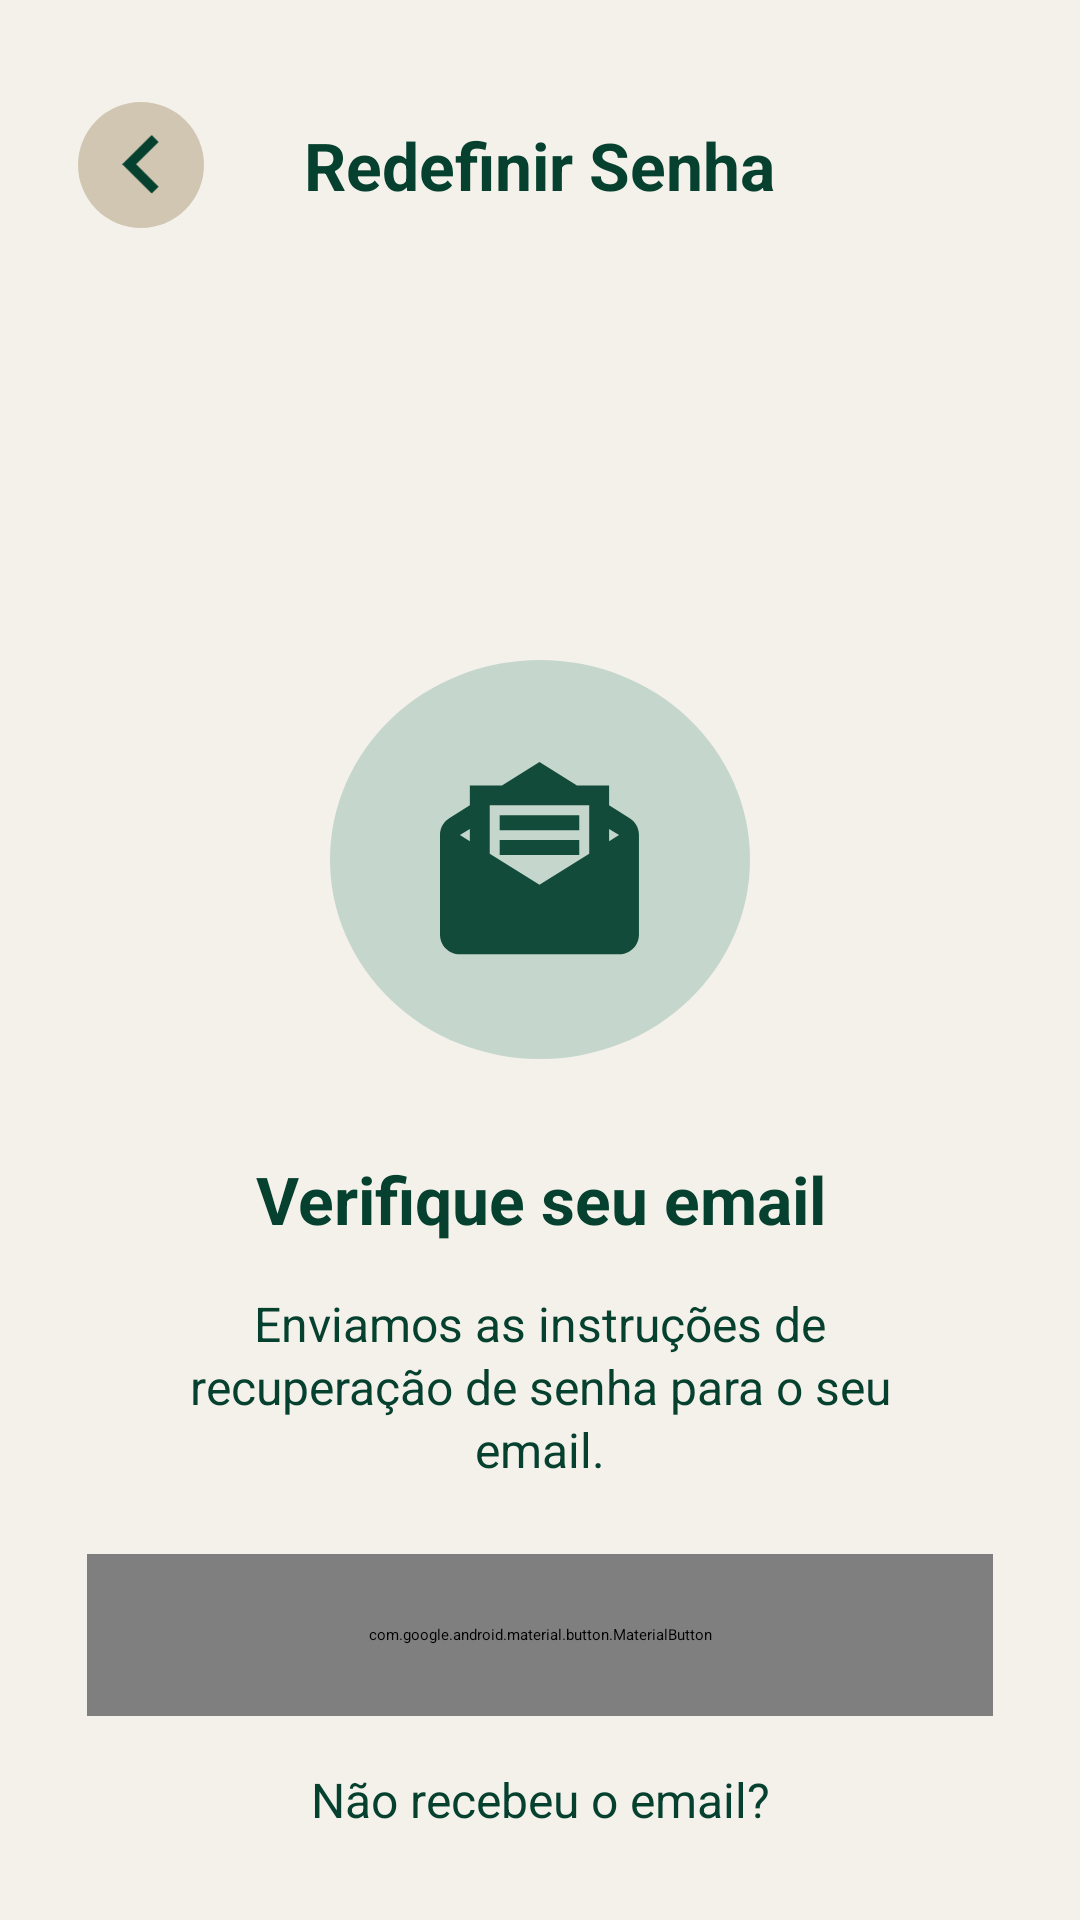

Point at icon controls on the screen. Image size 1080px×1920px, points as (x,y).
Voltar: (141,165)
